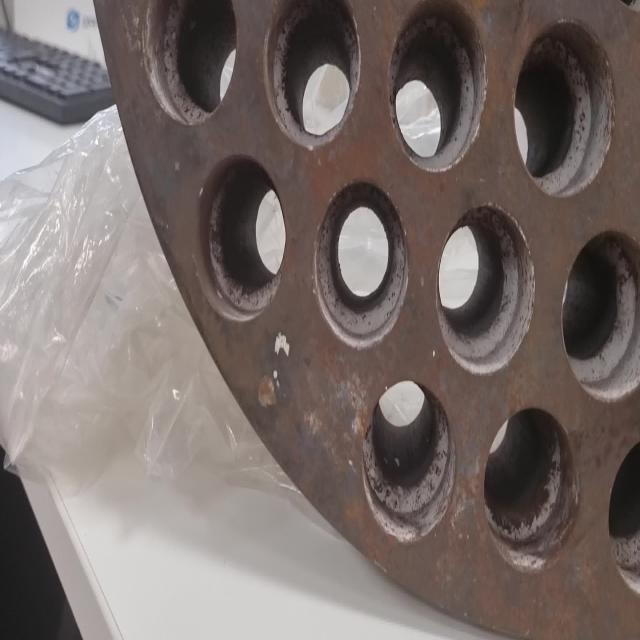Hole: (514, 13, 616, 198), (436, 201, 536, 376), (387, 0, 488, 173), (312, 175, 410, 349), (482, 404, 581, 573), (362, 378, 456, 542), (263, 0, 362, 150), (197, 154, 285, 322), (562, 227, 639, 403), (140, 0, 238, 126)
